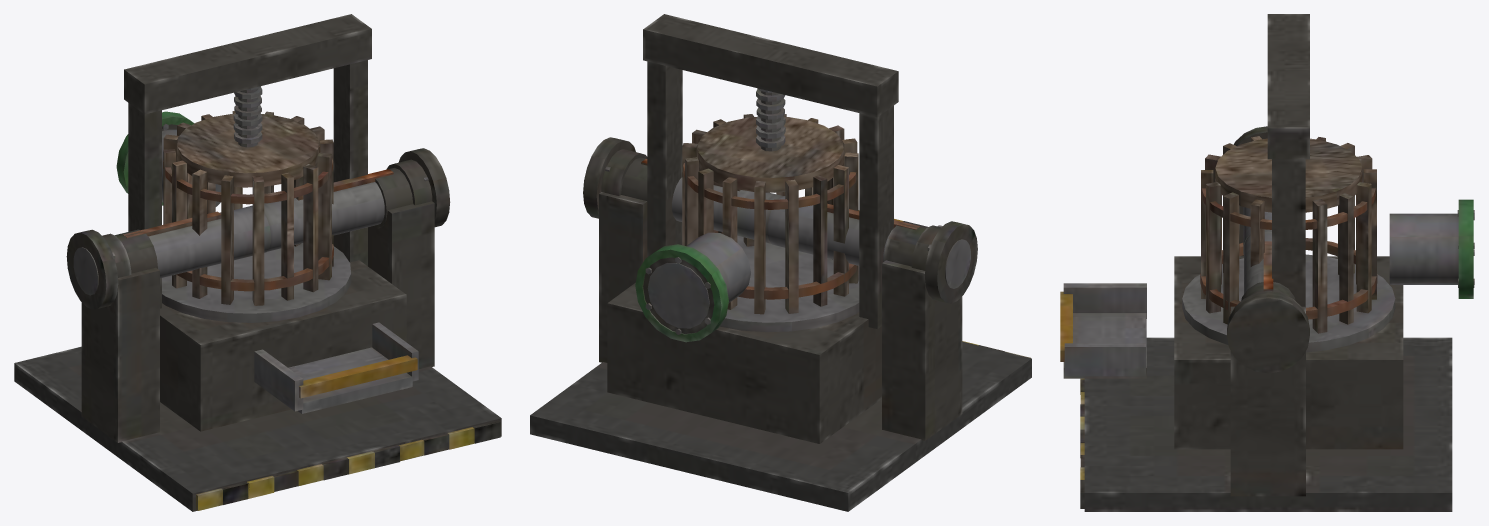
Rendered from feJuicePress.glb.
3 views of the same model, side by side, from view 1: azimuth 30°, elevation 25°; view 2: azimuth 150°, elevation 25°; view 3: azimuth 270°, elevation 25° (orthographic). The views are drawn at different scales.
Visible parts, largest first — view 1: feJuicePress_Base, FeSpin_DriveShaft, FePiston_Plate; view 2: feJuicePress_Base, FeSpin_DriveShaft, FePiston_Plate; view 3: feJuicePress_Base, FeSpin_DriveShaft, FePiston_Plate.
Boxes of the visible parts, x1,y1,x2,y2 form: feJuicePress_Base: (14,14,501,511); FeSpin_DriveShaft: (66,148,450,309); FePiston_Plate: (177,86,318,187); feJuicePress_Base: (530,14,1031,511); FeSpin_DriveShaft: (583,137,977,303); FePiston_Plate: (697,88,843,192); feJuicePress_Base: (1060,14,1474,511); FeSpin_DriveShaft: (1227,126,1309,373); FePiston_Plate: (1215,138,1362,212).
Bounding box in the file's own units: 1 × 0.9824 × 1.02.
1 material, 1 textured.
